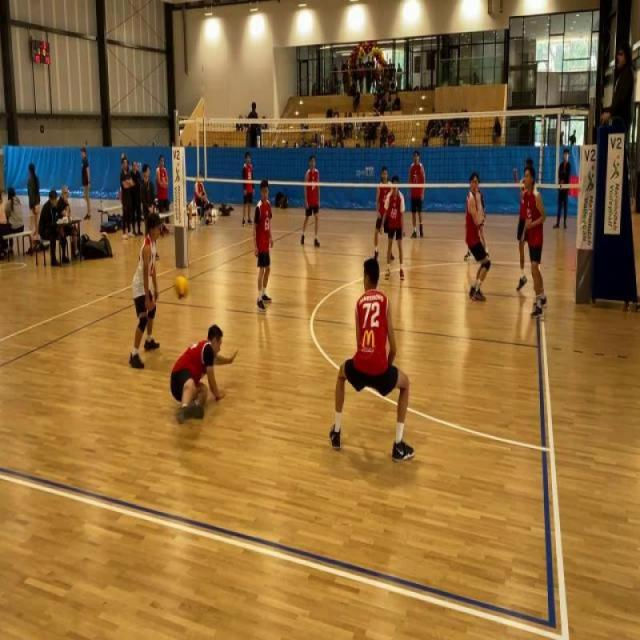volleyball: (173, 272, 192, 302), (100, 231, 108, 239)
